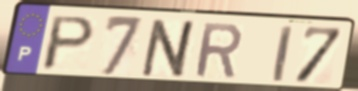7: (294, 25, 345, 86), (102, 14, 146, 78)
I: (271, 23, 295, 84)
N: (137, 18, 201, 80)
P: (38, 14, 98, 73)
R: (193, 21, 244, 80)
